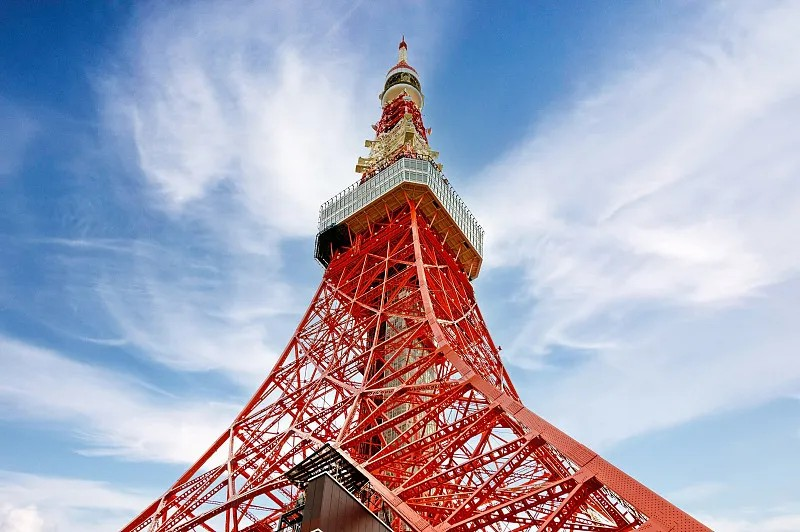Tokyo: (120, 33, 717, 532)
